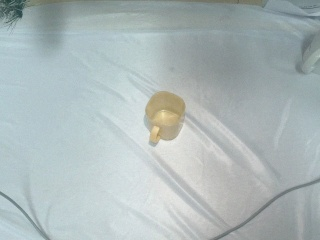cup: (144, 90, 187, 144), (297, 28, 320, 76)
